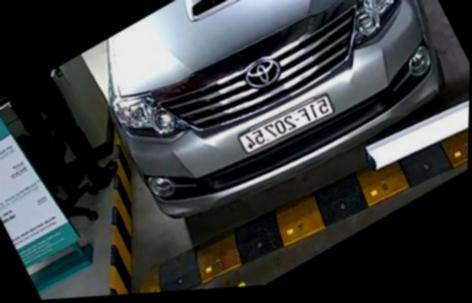License_Plate: (235, 92, 332, 163)
